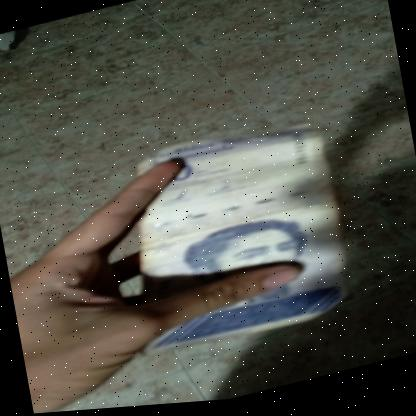ten-front-vef: (110, 111, 354, 365)
